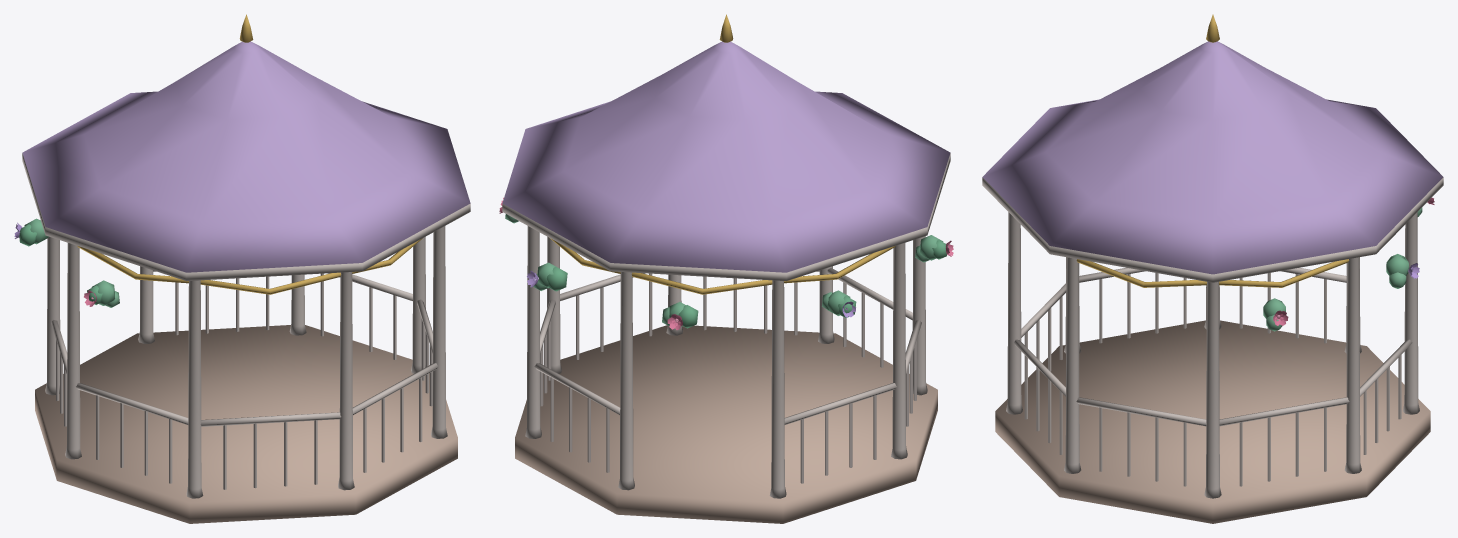
The model's file is gazebo.glb.
3 renders of one model, left to right at view 1: azimuth 30°, elevation 25°; view 2: azimuth 150°, elevation 25°; view 3: azimuth 270°, elevation 25°, orthographic.
Parts seen in each view (by area): view 1: gazebo; view 2: gazebo; view 3: gazebo.
Part boxes in pixels (x1,y1,x2,y2): gazebo: (14,14,470,523); gazebo: (499,14,953,523); gazebo: (982,14,1443,523).
Size of what is drawn, in the model's own units: 5 by 5 by 5.
